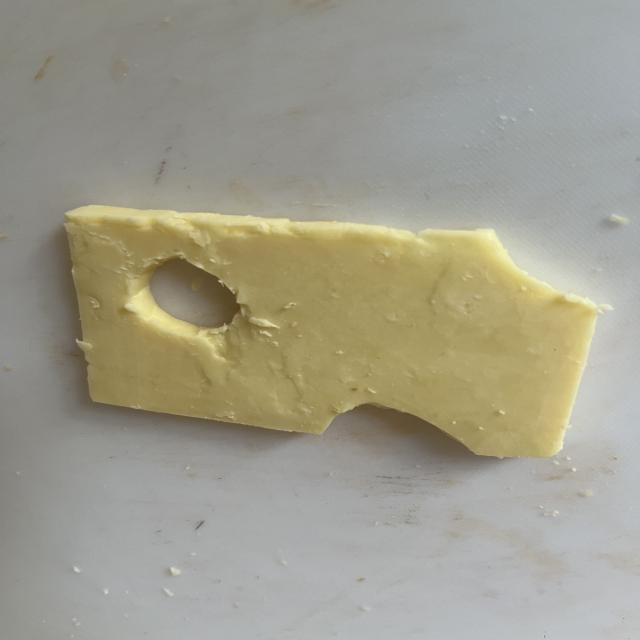cheese: (66, 206, 601, 457)
